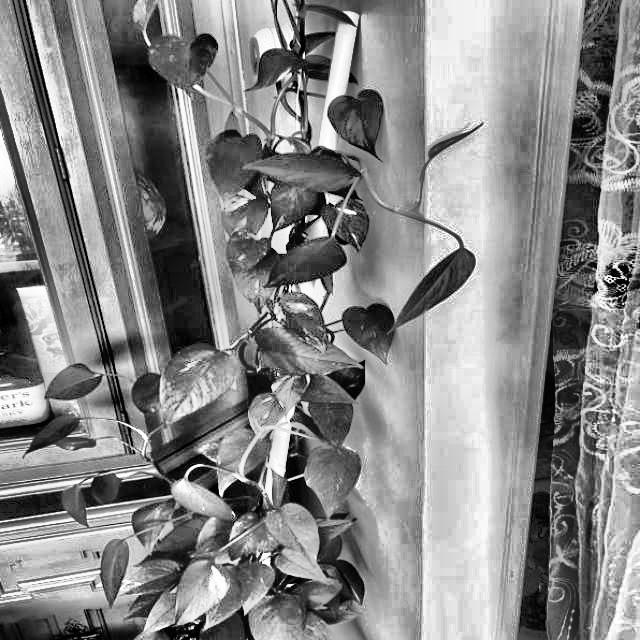plants: (103, 15, 410, 640)
